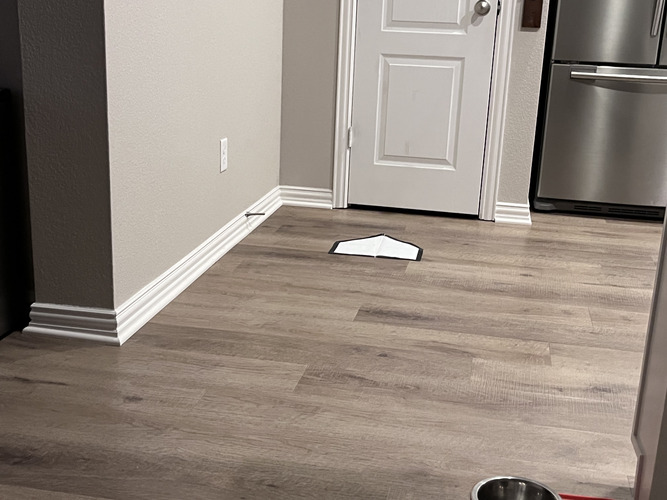homeplate: (327, 231, 423, 262)
